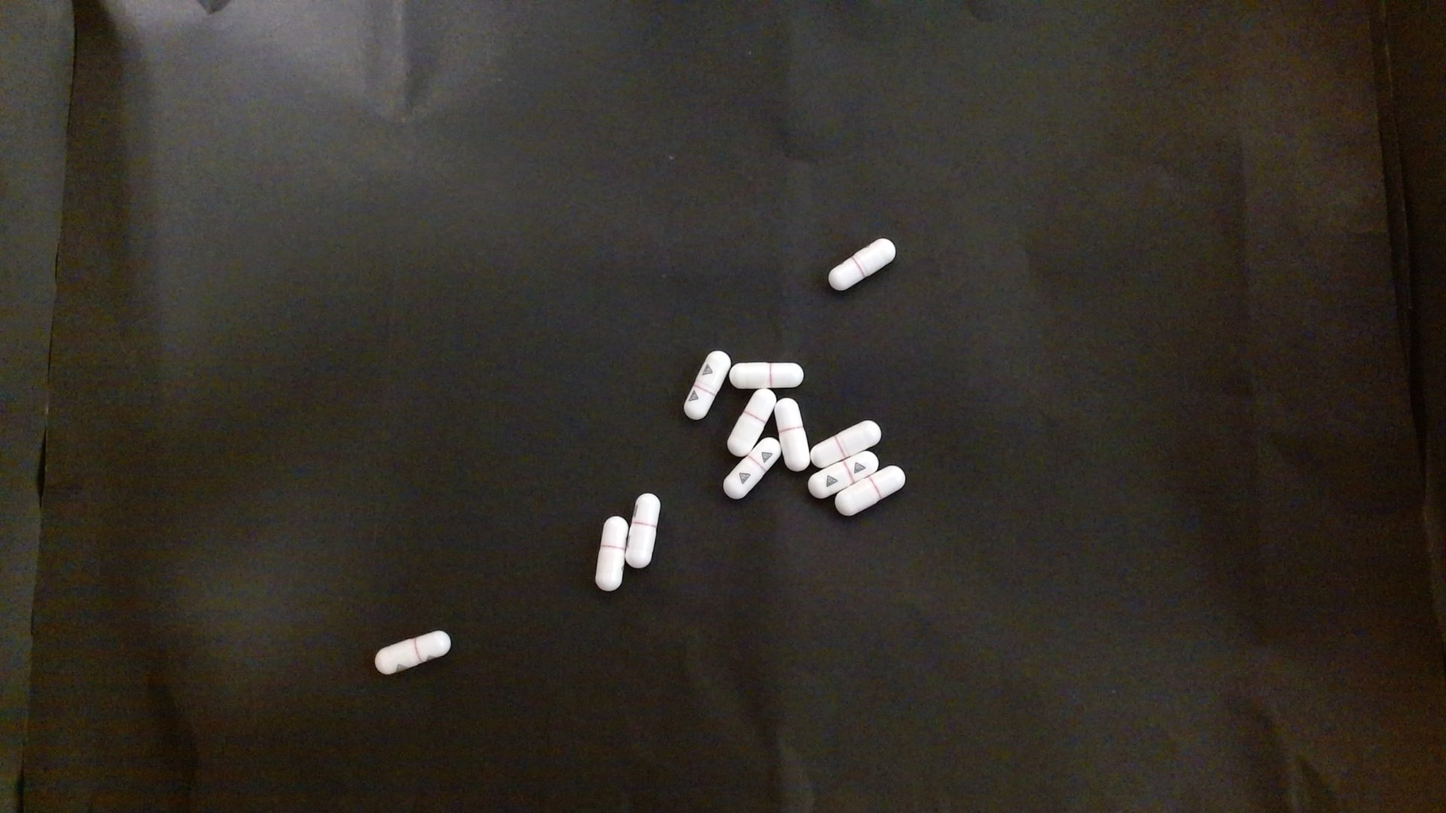Capsule: (371, 625, 458, 681), (826, 235, 896, 295), (681, 349, 732, 423), (724, 437, 782, 500), (834, 465, 904, 516), (807, 451, 880, 499), (726, 388, 776, 458), (809, 419, 880, 468), (624, 493, 660, 571), (594, 516, 628, 591), (773, 398, 808, 470), (729, 361, 802, 389)
